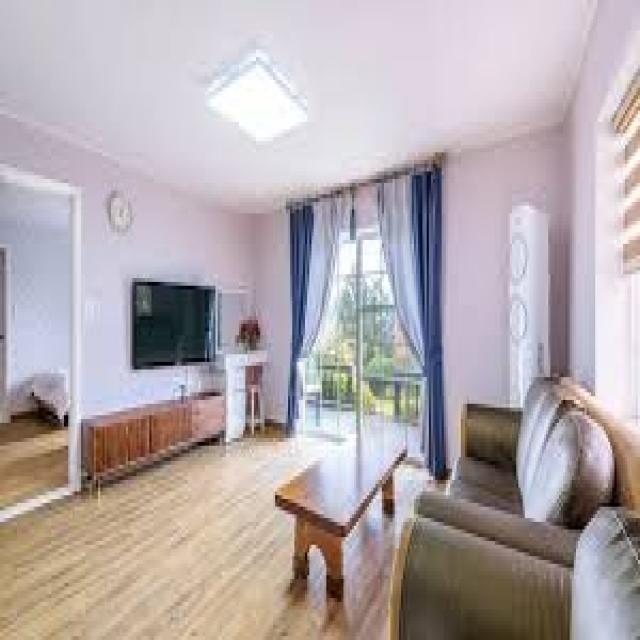Sofa: (390, 392, 638, 640)
Table: (276, 429, 406, 598)
tv: (131, 278, 222, 367)
window: (291, 201, 436, 440)
